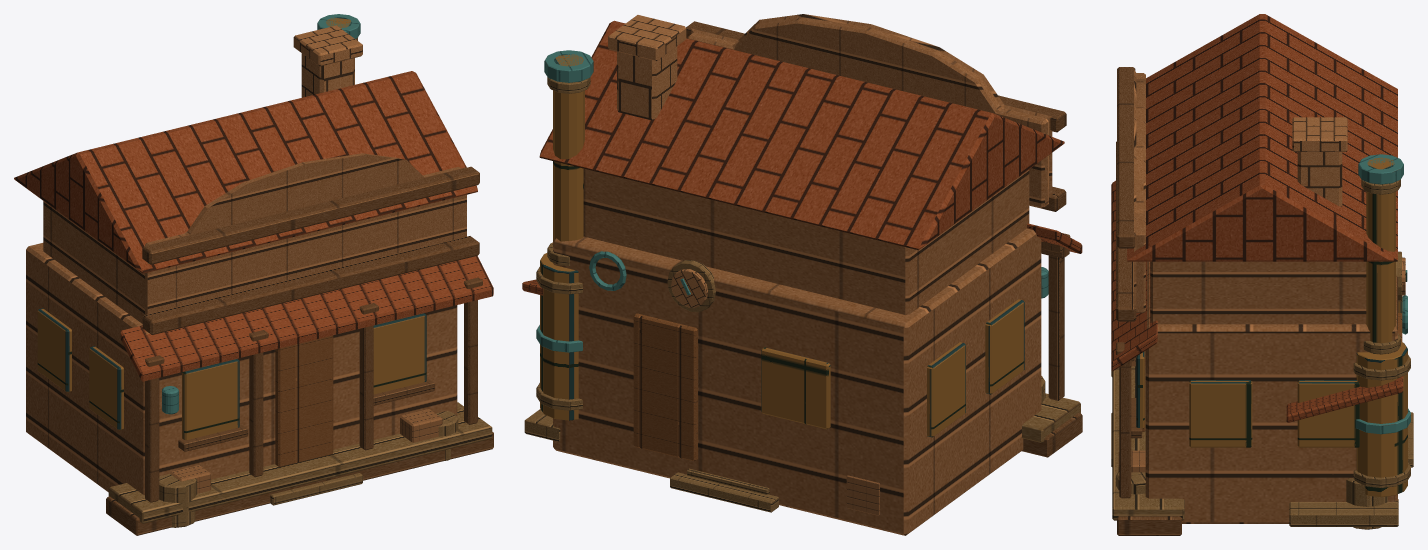
File: general-store.e2.glb
3 renders of one model, left to right at view 1: azimuth 30°, elevation 25°; view 2: azimuth 150°, elevation 25°; view 3: azimuth 270°, elevation 25°, orthographic. The views are drawn at different scales.
Visible parts, largest first — view 1: GeneralStoreE2; view 2: GeneralStoreE2; view 3: GeneralStoreE2.
Boxes of the visible parts, x1=… form: GeneralStoreE2: x1=14, y1=14, x2=493, y2=535; GeneralStoreE2: x1=522, y1=14, x2=1082, y2=535; GeneralStoreE2: x1=1111, y1=14, x2=1413, y2=535.
Size of the model in its own units: 4.7 by 4.44 by 3.26.
1 material, 1 textured.
